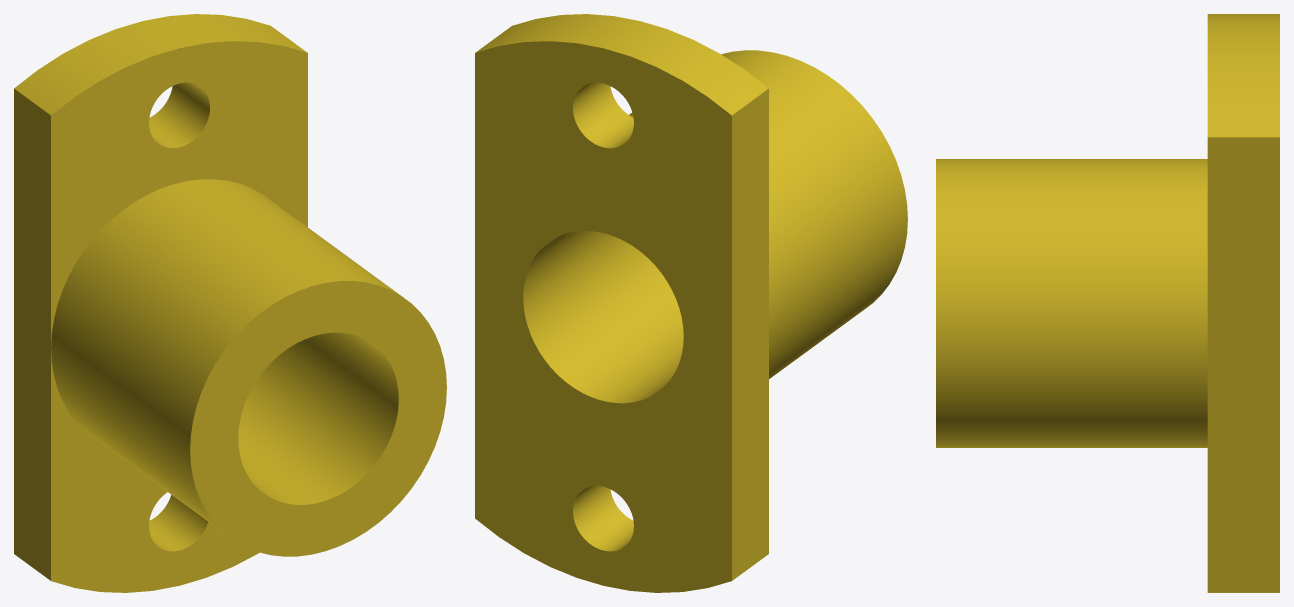
File: A26_S13_LeadScrewNut.gltf
The picture shows the model from 3 angles, left to right: view 1: azimuth 30°, elevation 25°; view 2: azimuth 150°, elevation 25°; view 3: azimuth 270°, elevation 25°; orthographic projection. The views are drawn at different scales.
Parts seen in each view (by area): view 1: mesh21134, mesh21135, mesh21133, mesh21132, mesh21142, mesh21139, mesh21136, mesh21137, mesh21143; view 2: mesh21141, mesh21134, mesh21132, mesh21139, mesh21136, mesh21143, mesh21137; view 3: mesh21134, mesh21138, mesh21136.
Boxes of the visible parts, <box> form: mesh21134: <box>51,179,400,534</box>; mesh21135: <box>51,41,307,346</box>; mesh21133: <box>190,281,446,556</box>; mesh21132: <box>238,332,398,504</box>; mesh21142: <box>51,349,259,592</box>; mesh21139: <box>14,88,50,580</box>; mesh21136: <box>14,14,307,115</box>; mesh21137: <box>149,82,209,148</box>; mesh21143: <box>149,495,208,551</box>; mesh21141: <box>475,41,731,592</box>; mesh21134: <box>629,50,907,378</box>; mesh21132: <box>523,231,683,403</box>; mesh21139: <box>732,88,768,580</box>; mesh21136: <box>475,14,768,115</box>; mesh21143: <box>573,486,633,551</box>; mesh21137: <box>573,82,633,148</box>; mesh21134: <box>936,159,1207,447</box>; mesh21138: <box>1207,137,1279,591</box>; mesh21136: <box>1207,14,1279,137</box>.
Size of the model in its own units: 0.016 by 0.032 by 0.019.
